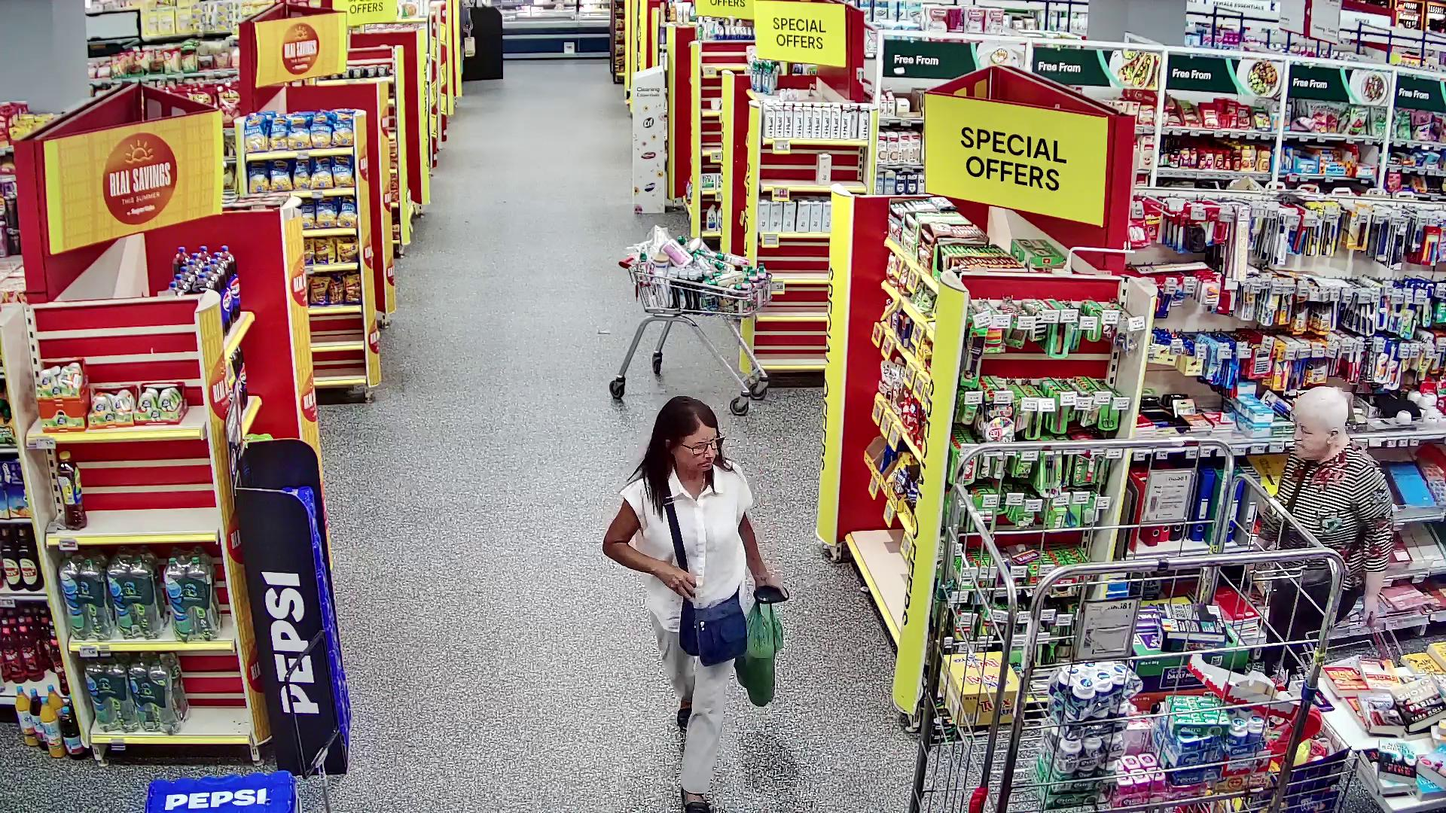backpack-or-handbag: (679, 603, 748, 667)
empty-basket: (1301, 620, 1403, 669)
filled-shopping-bags: (734, 596, 784, 706)
person: (1251, 389, 1393, 670)
person-with-backpack-handbag-and-shopping-bag-s-: (604, 396, 790, 813)
person-with-empty-basket-trolly: (1248, 387, 1401, 686)
